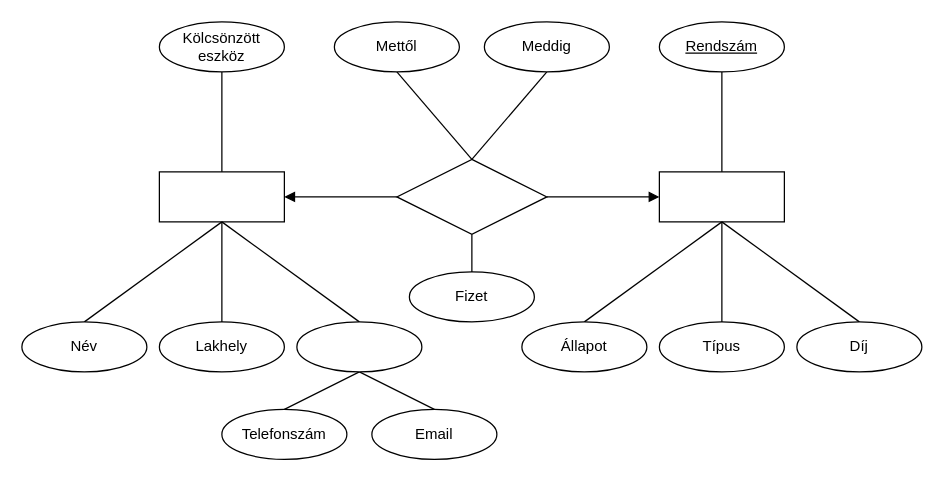
This 944x481 diagram has some shape labels left out. The centre of each missing label's shape, as x and y in pixels:
"Jármű" goes at pixel 721 196.
"Kölcsönzés" goes at pixel 471 196.
"Értesítés" goes at pixel 359 346.
"Ügyfél" goes at pixel 221 196.
